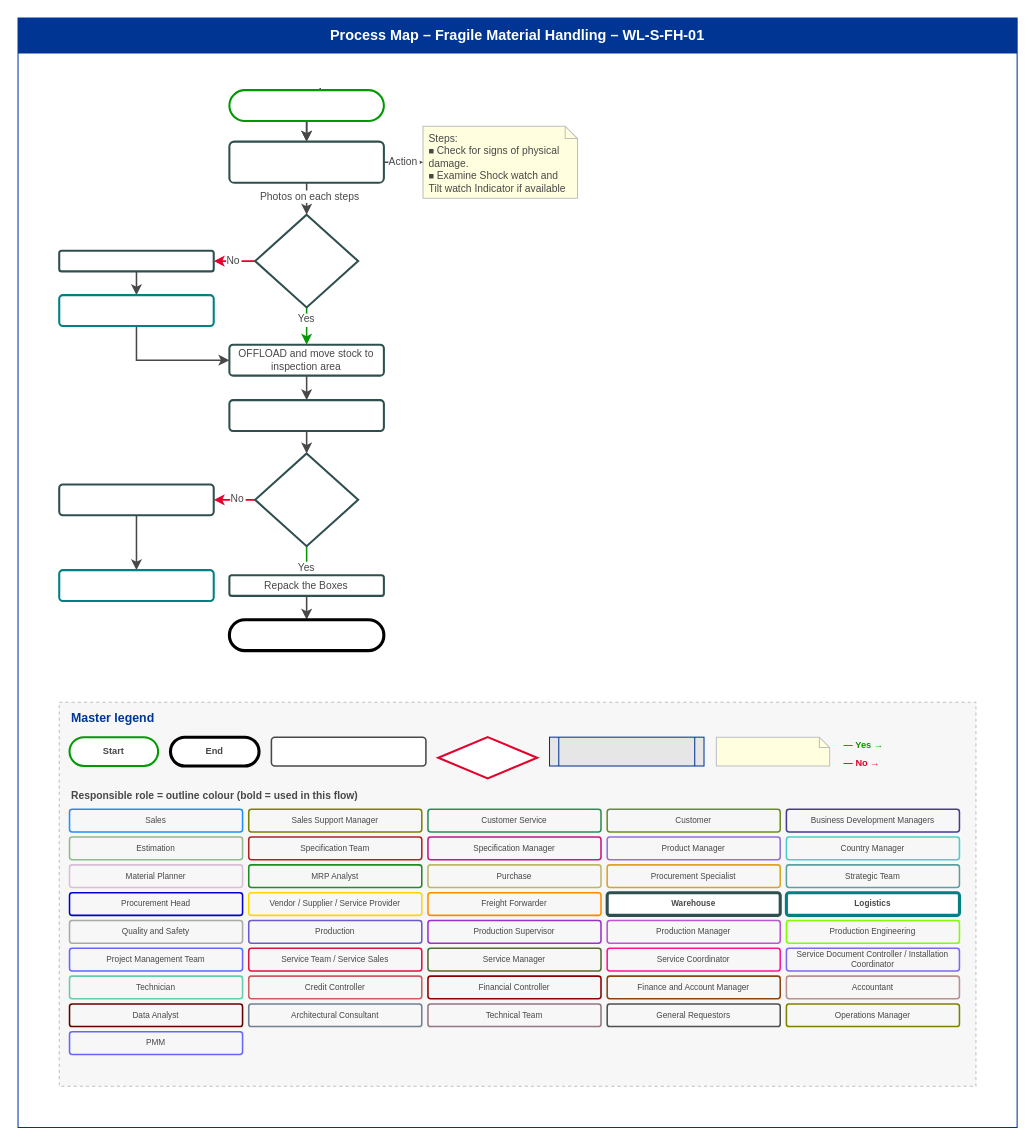
This 1035x1146 diagram has some shape labels left out. Each missing label, with the centre of its shape:
"Activity (outline = role)" belongs at [348,751].
"Contact Supervisor" belongs at [136,260].
"Decision" belongs at [487,757].
"EXIT" belongs at [306,635].
"FRAGILE" belongs at [306,105].
"Inspection passed" belongs at [306,260].
"Linked process (Ref ID)" belongs at [626,751].
"Note / checklist" belongs at [772,751].
"OK" belongs at [306,499].
"Open Box Visual Inspection for damage" belongs at [306,415].
"Park packages in damage retention area." belongs at [136,499].
"Physical Shipment inspection before offloading" belongs at [306,161].
"Raise NCR, Permission to OFFLOAD" belongs at [136,310].
"Raise NCR, Wait for vendor/FF conclusion" belongs at [136,585].
